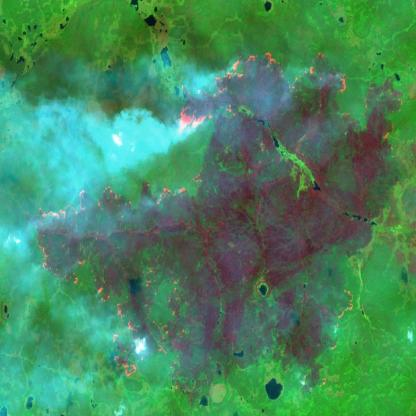fire: (28, 46, 416, 396)
